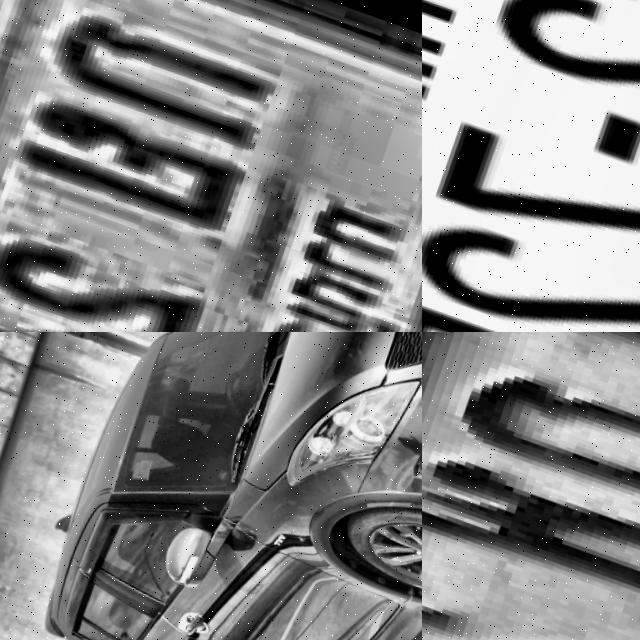license-plate: (0, 0, 422, 332), (422, 0, 640, 332), (422, 332, 640, 640)
